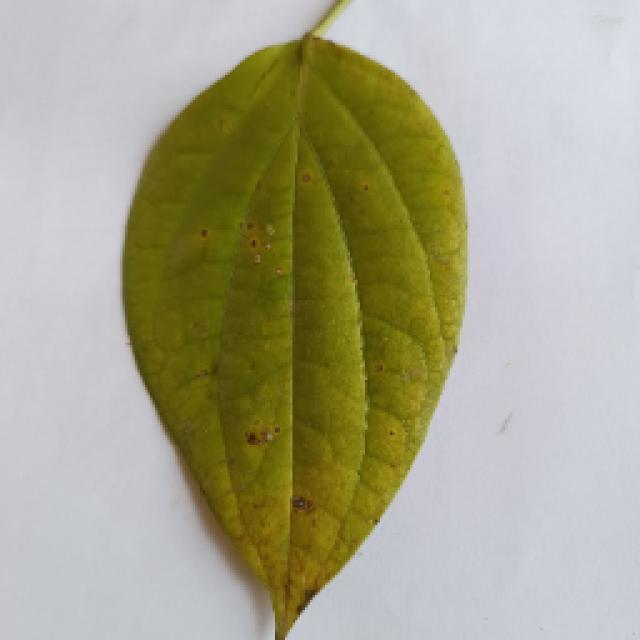slow-decline: (115, 13, 467, 635)
